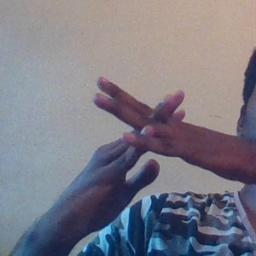W: (77, 64, 214, 205)
